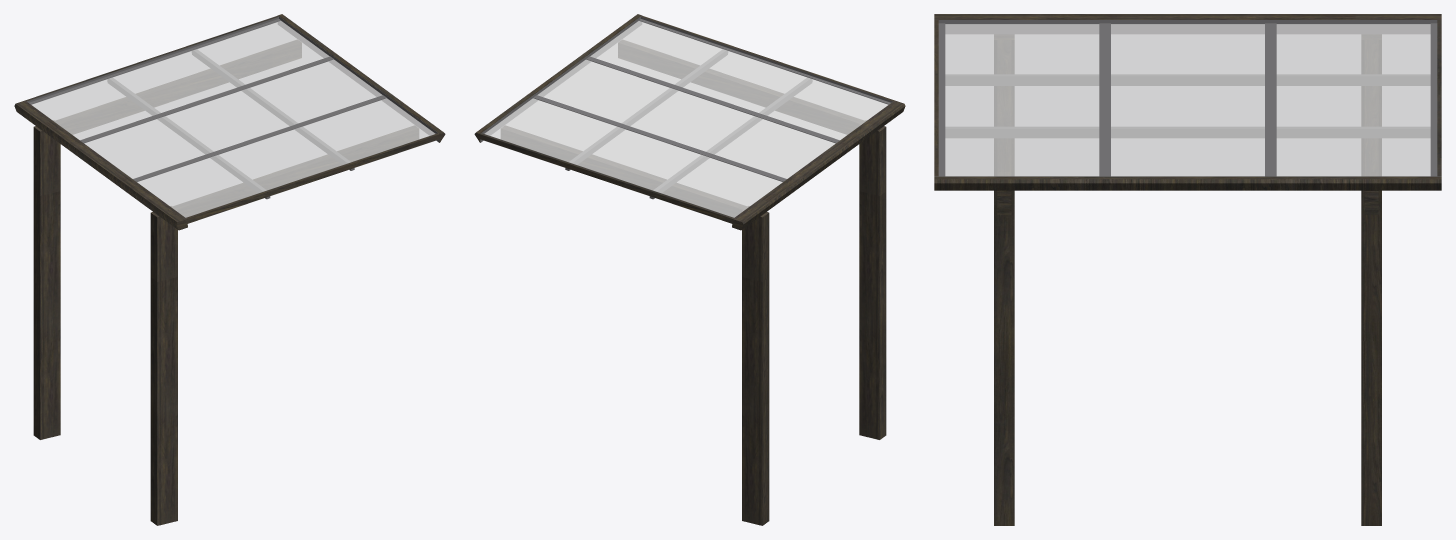
File: 2121-22_blackebony.fbx
3 renders of one model, left to right at view 1: azimuth 30°, elevation 25°; view 2: azimuth 150°, elevation 25°; view 3: azimuth 270°, elevation 25°, orthographic. The views are drawn at different scales.
Parts seen in each view (by area): view 1: 2121-22blackebony; view 2: 2121-22blackebony; view 3: 2121-22blackebony.
Part boxes in pixels (x1=…): 2121-22blackebony: x1=14, y1=14, x2=445, y2=525; 2121-22blackebony: x1=474, y1=14, x2=905, y2=525; 2121-22blackebony: x1=934, y1=14, x2=1441, y2=525.
Bounding box in the file's own units: 210 × 255 × 219.
4 materials, 2 textured.
